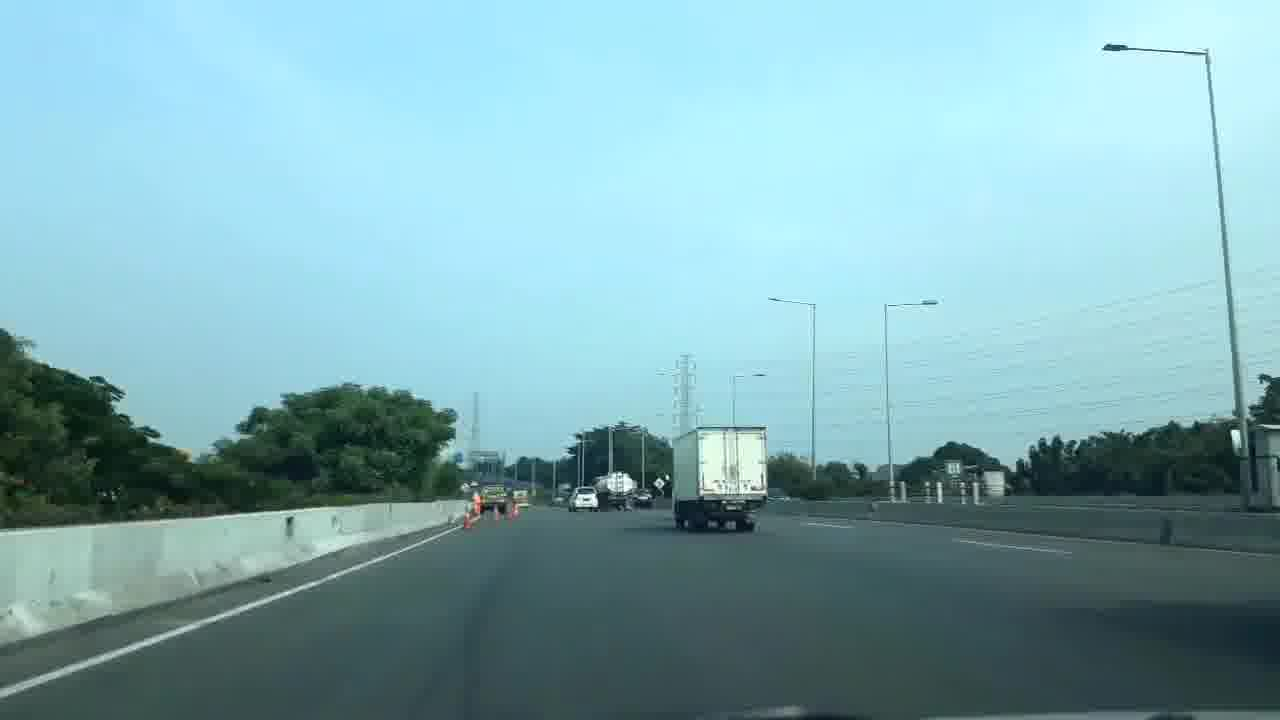plate_positive: (725, 504, 744, 511)
